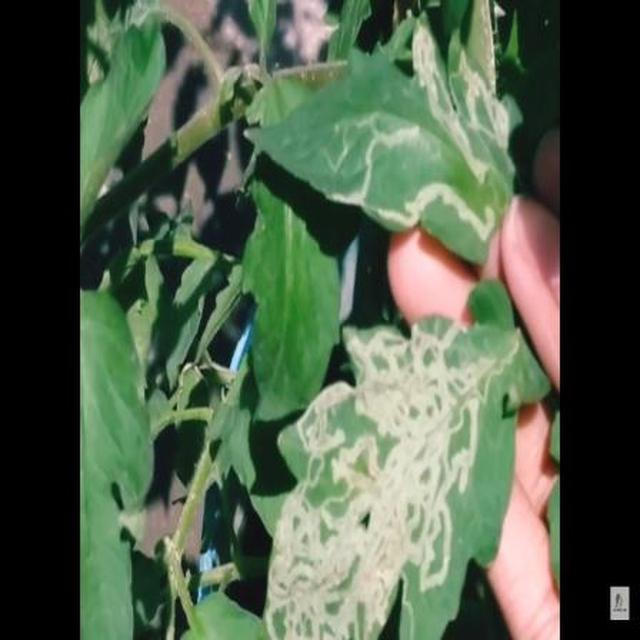Leaf Miner: (388, 207, 580, 640)
